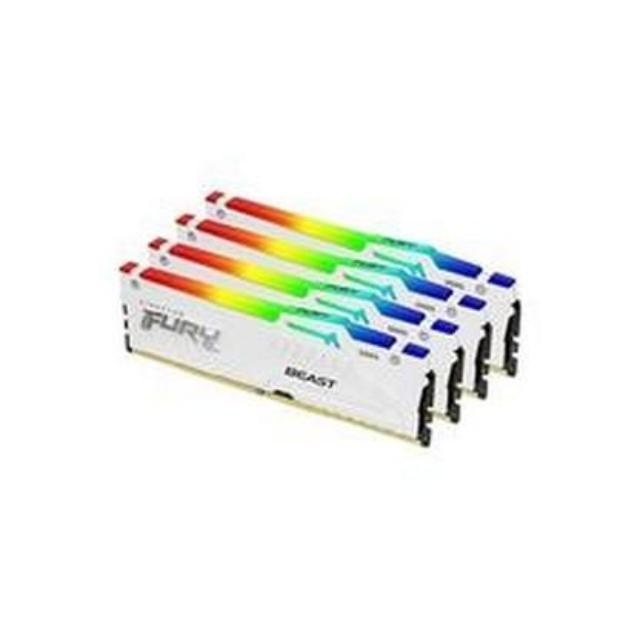RAM: (96, 191, 526, 451)
